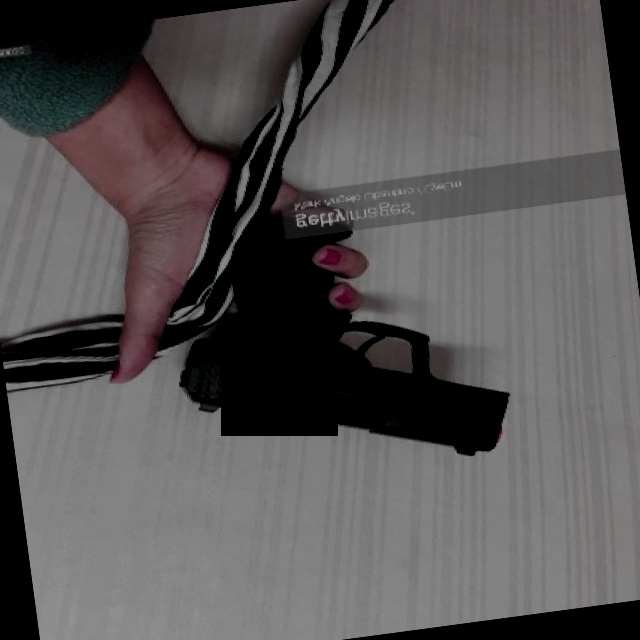gun: (157, 194, 521, 496)
